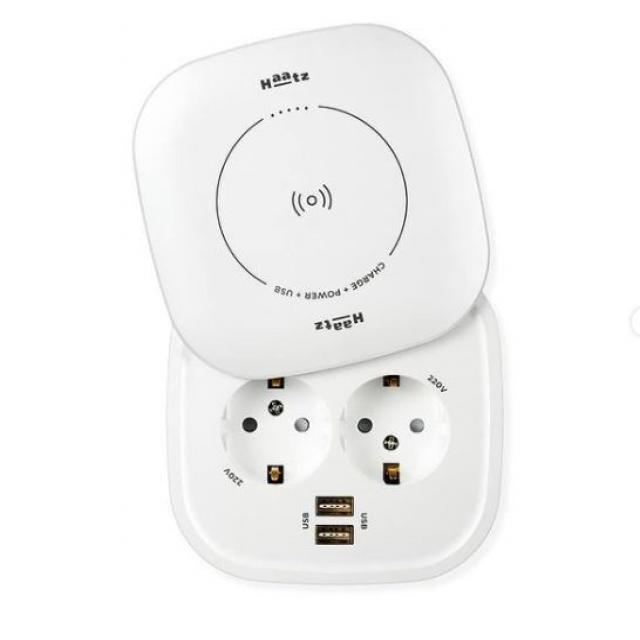typeb: (112, 328, 536, 608)
